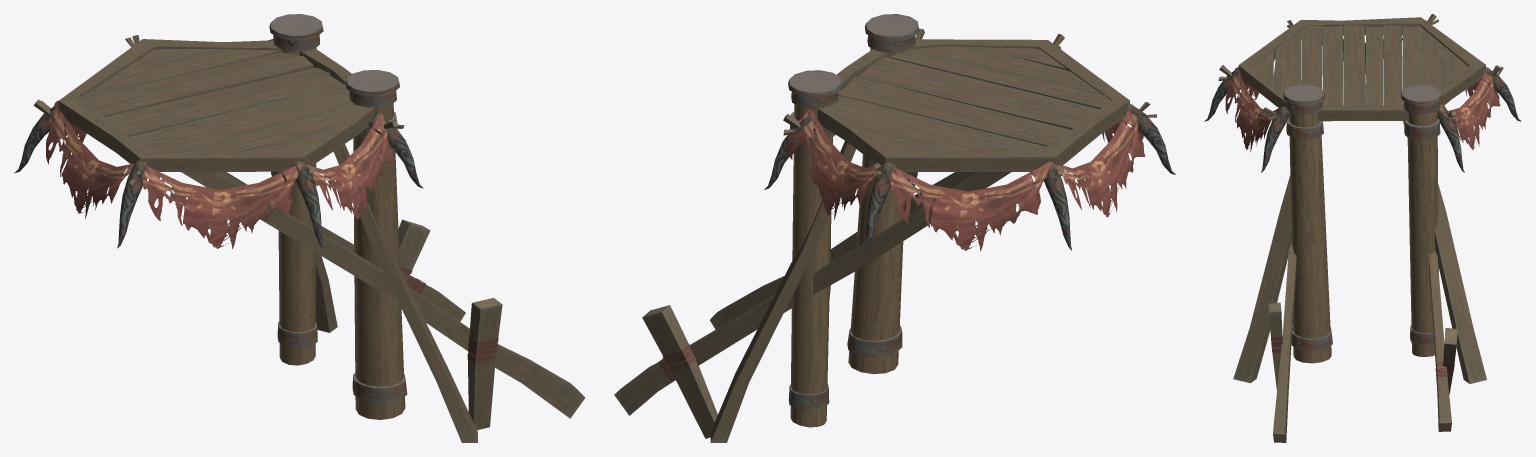
The model's file is Area_Common_Build_Hili_Platform_01_Lod0.fbx.
3 renders of one model, left to right at view 1: azimuth 30°, elevation 25°; view 2: azimuth 150°, elevation 25°; view 3: azimuth 270°, elevation 25°, orthographic. The views are drawn at different scales.
Visible parts, largest first — view 1: Area_Common_Build_Hili_Platform_01_Lod0; view 2: Area_Common_Build_Hili_Platform_01_Lod0; view 3: Area_Common_Build_Hili_Platform_01_Lod0.
Boxes of the visible parts, x1,y1,x2,y2 form: Area_Common_Build_Hili_Platform_01_Lod0: (14,14,585,442); Area_Common_Build_Hili_Platform_01_Lod0: (614,14,1175,442); Area_Common_Build_Hili_Platform_01_Lod0: (1204,14,1521,442).
Size of the model in its own units: 10.66 by 8.09 by 8.23.
Materials: 2 (2 with a texture image).
